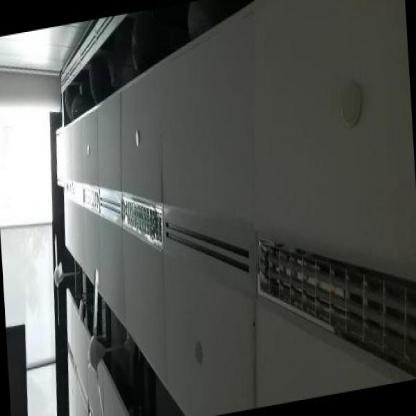light_off: (250, 191, 415, 409), (112, 160, 180, 269)
